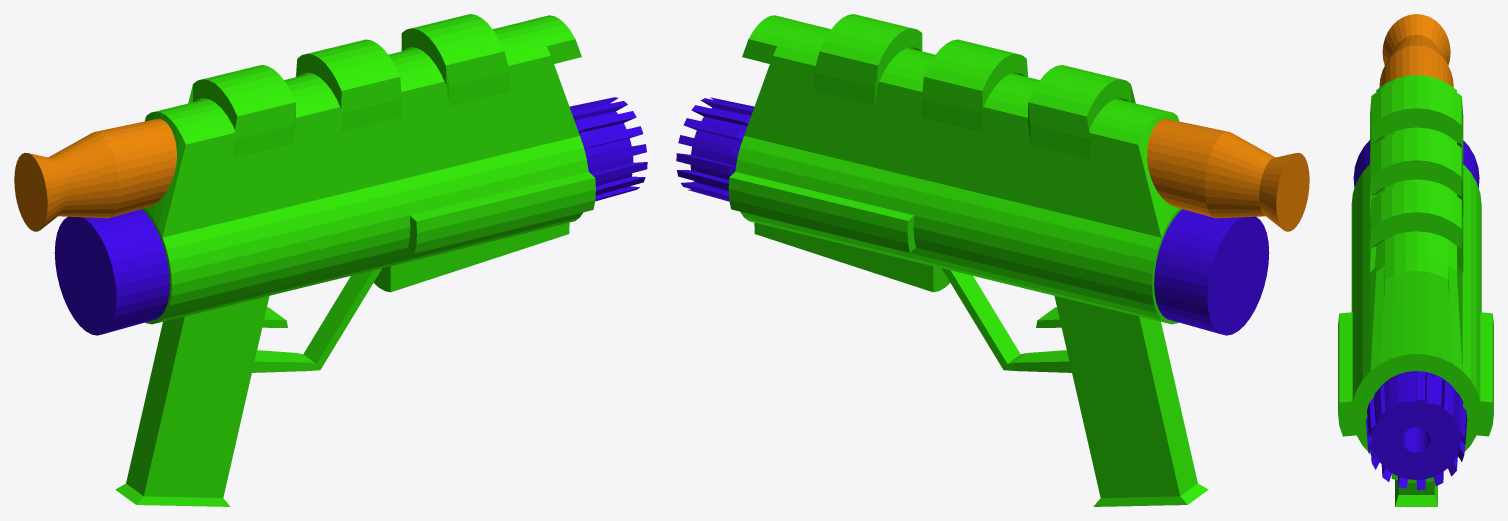
File: WaterGun.fbx
3 views of the same model, side by side, from view 1: azimuth 30°, elevation 25°; view 2: azimuth 150°, elevation 25°; view 3: azimuth 270°, elevation 25° (orthographic). The views are drawn at different scales.
Visible parts, largest first — view 1: Cylinder.001, Cube, Cylinder, Cylinder.002; view 2: Cylinder.001, Cube, Cylinder, Cylinder.002; view 3: Cylinder.001, Cylinder, Cylinder.002, Cube.
Part boxes in pixels (<box>): Cylinder.001: <box>141,14,595,324</box>; Cube: <box>115,268,381,506</box>; Cylinder: <box>54,97,647,335</box>; Cylinder.002: <box>14,119,176,231</box>; Cylinder.001: <box>728,14,1182,324</box>; Cube: <box>942,268,1208,506</box>; Cylinder: <box>676,97,1269,335</box>; Cylinder.002: <box>1147,119,1309,231</box>; Cylinder.001: <box>1338,75,1493,483</box>; Cylinder: <box>1353,140,1479,489</box>; Cylinder.002: <box>1379,14,1453,87</box>; Cube: <box>1395,479,1437,506</box>.
Size of the model in its own units: 361 by 243 by 80.69.
